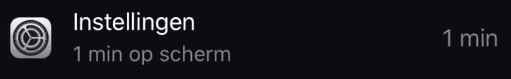name: (66, 2, 203, 38)
time: (71, 41, 127, 71)
